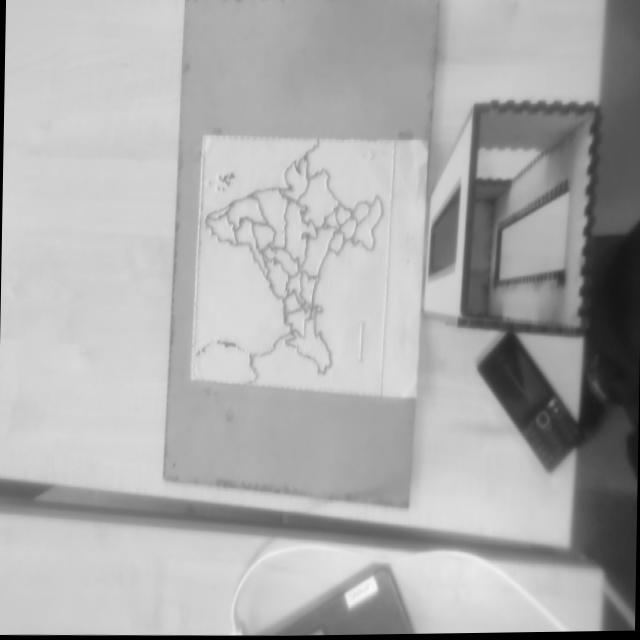map: (189, 130, 395, 395)
